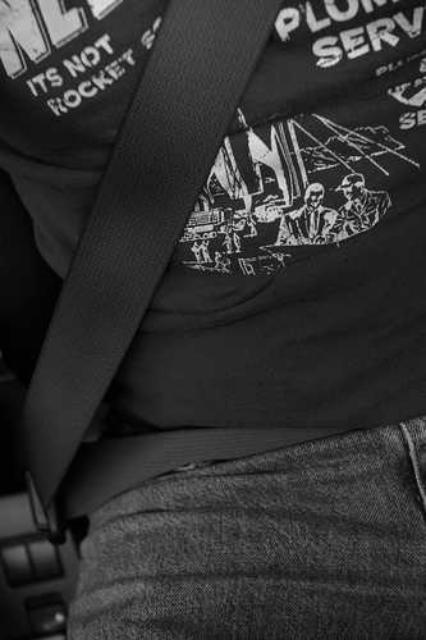Seatbelt: (20, 1, 286, 526)
